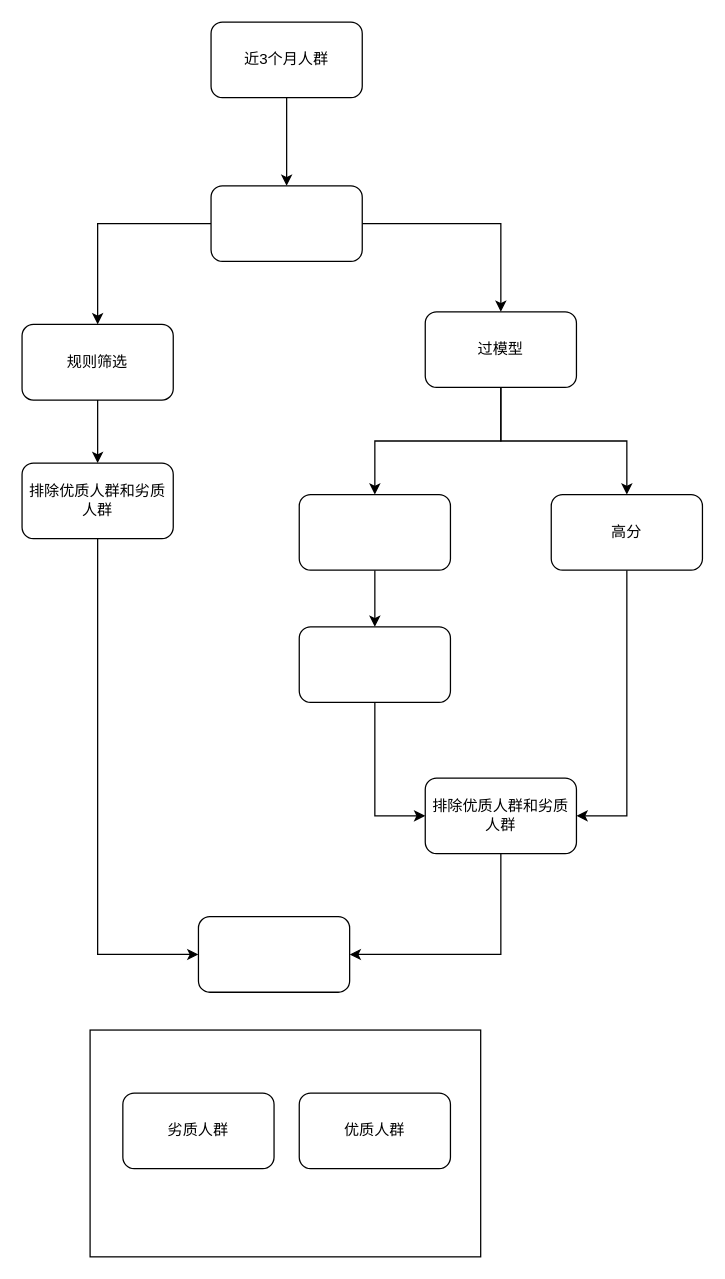
Some shapes in this 725 by 1279 pixel diagram are drawn without their labels. The shapes that lost their labels are listed below. From the top down, each one's box as (x1, y1, x2, y2) in pixels, then its label:
(210, 185, 362, 261): 排除屏蔽省市、号段
(298, 493, 450, 570): 低分
(298, 626, 450, 702): 叠加规则
(197, 915, 350, 992): 投放测试
